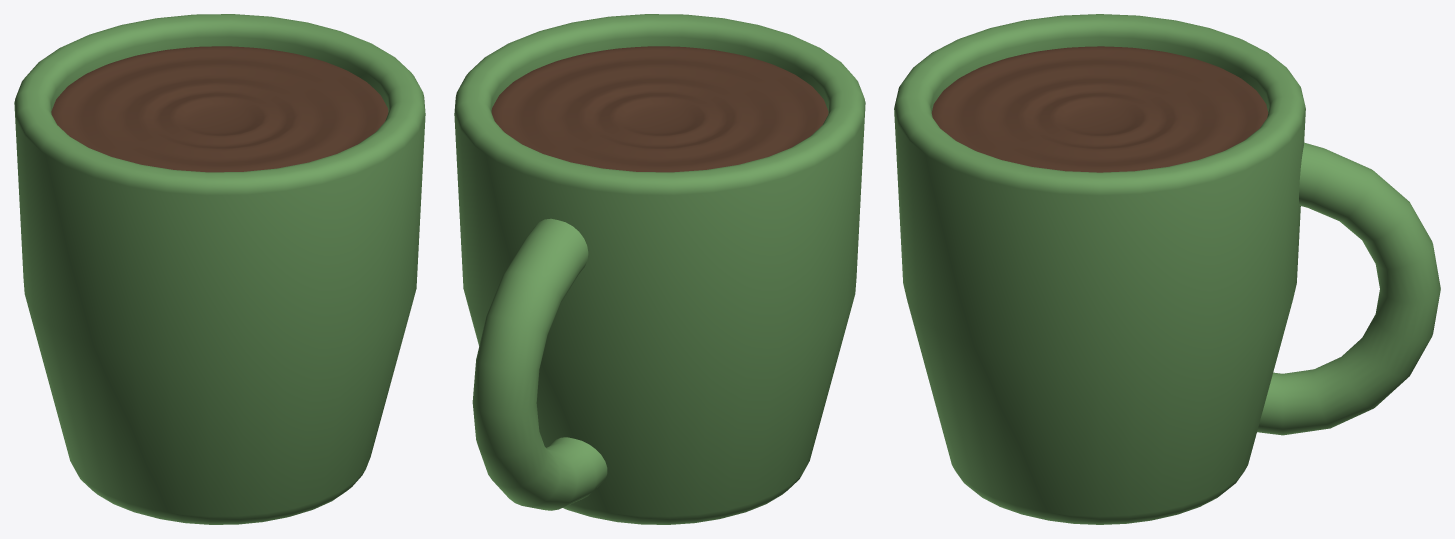
Rendered from SM_Prop_CoffeeCup.fbx.
3 views of the same model, side by side, from view 1: azimuth 30°, elevation 25°; view 2: azimuth 150°, elevation 25°; view 3: azimuth 270°, elevation 25° (orthographic).
Visible parts, largest first — view 1: Xicara_Cafe; view 2: Xicara_Cafe; view 3: Xicara_Cafe.
Part boxes in pixels (x1,y1,x2,y2): Xicara_Cafe: (14,14,425,524); Xicara_Cafe: (454,14,865,524); Xicara_Cafe: (894,14,1440,524).
Size of the model in its own units: 200 by 200 by 266.
